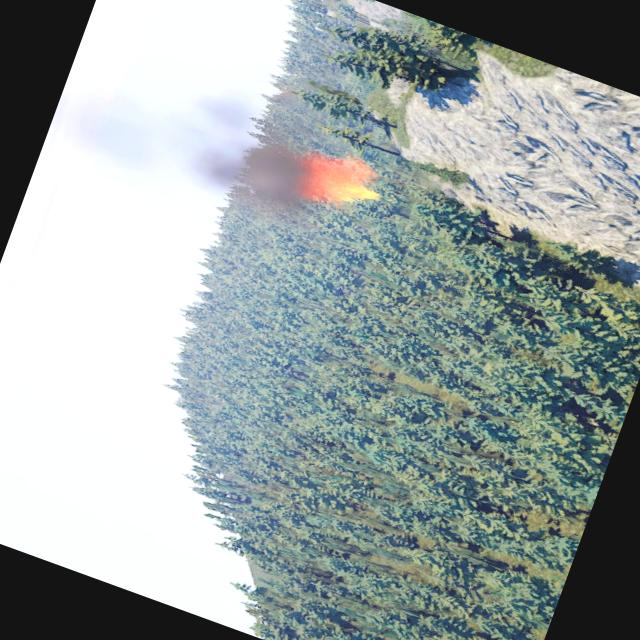fire: (306, 146, 386, 217)
smoke: (53, 48, 374, 262)
